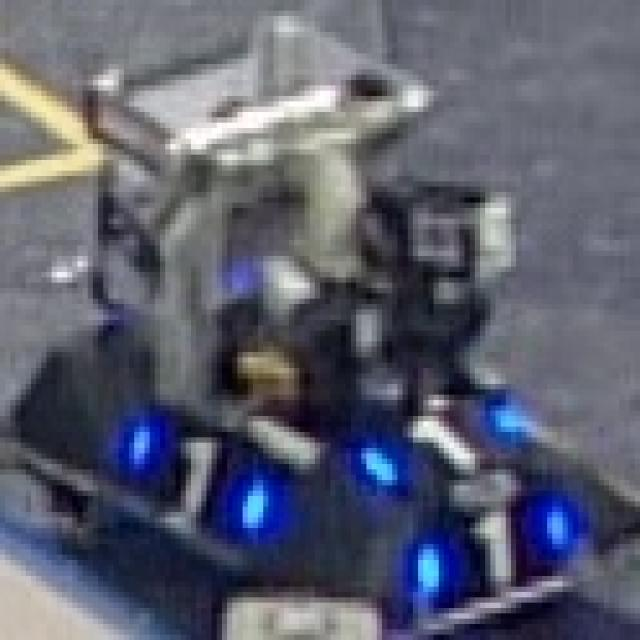B1: (124, 421, 273, 539), (356, 400, 532, 491), (413, 502, 568, 598)
